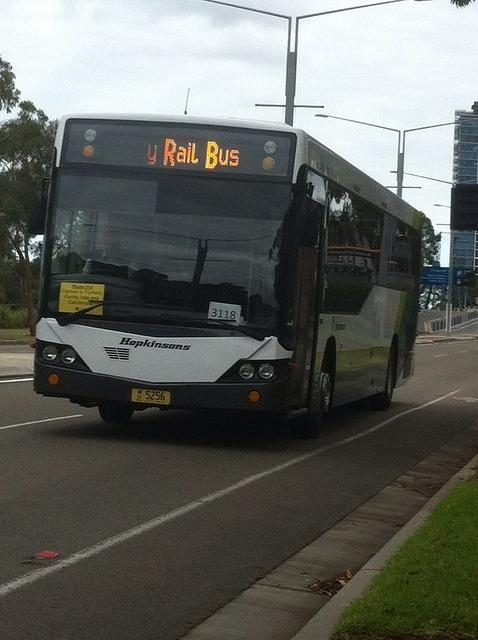bus: (31, 111, 428, 450)
